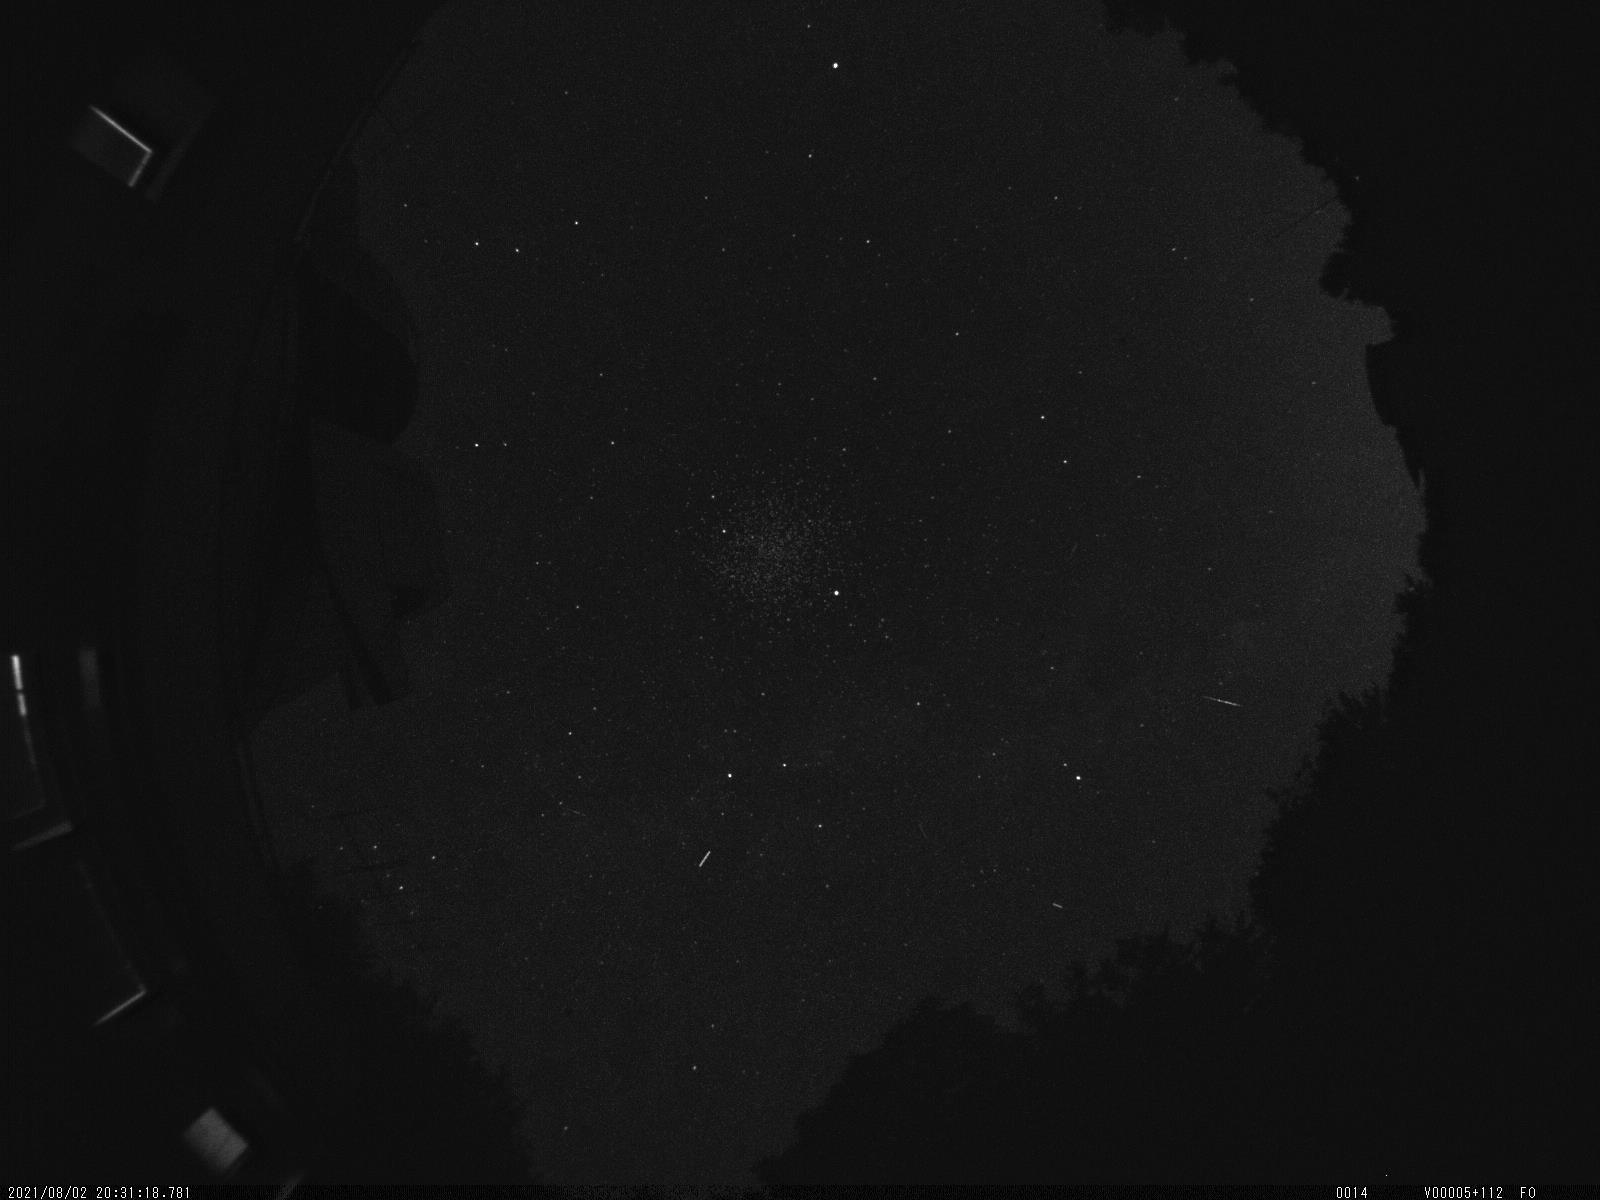Meteor: (1199, 685, 1243, 714)
